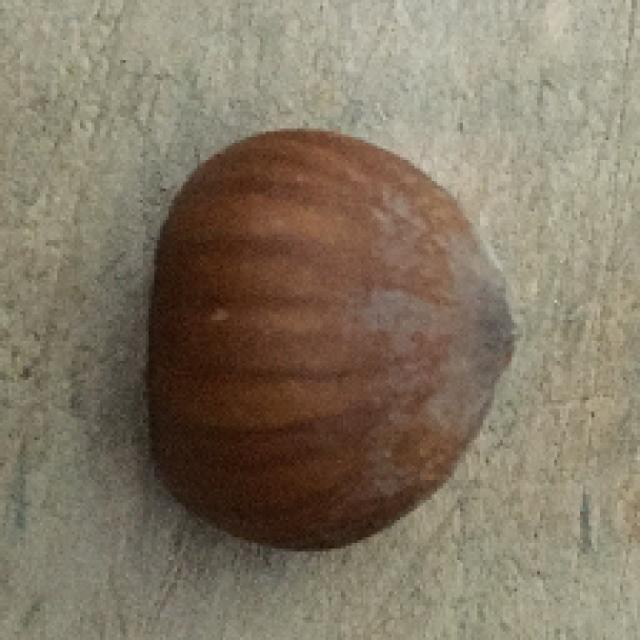QualityHazelnut: (143, 127, 515, 556)
